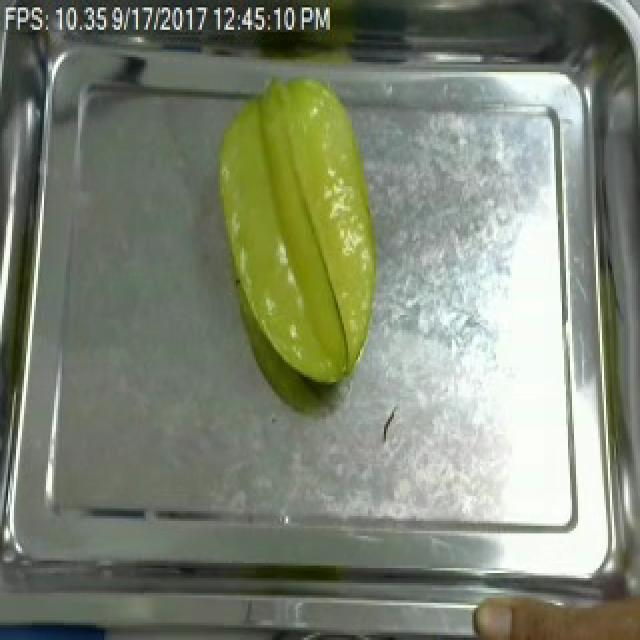fruit: (204, 69, 386, 402), (464, 570, 640, 640)
